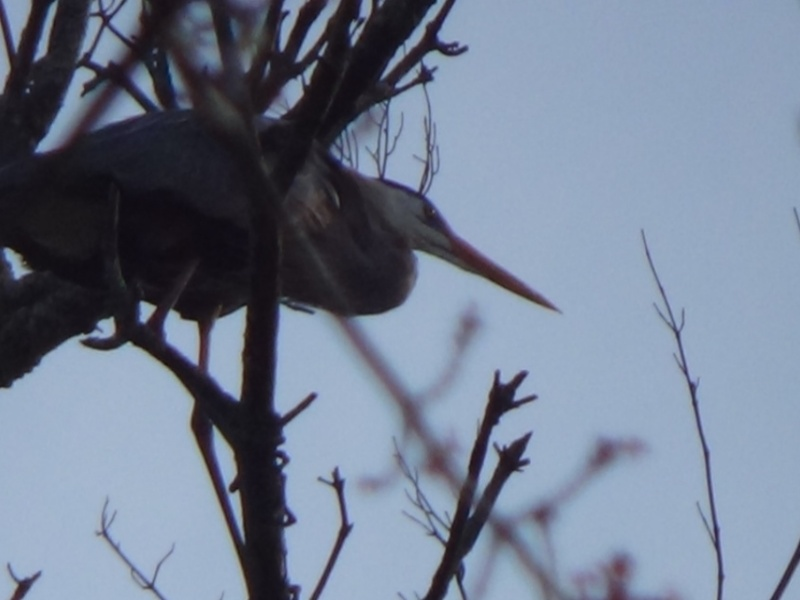heron: (14, 104, 567, 326)
